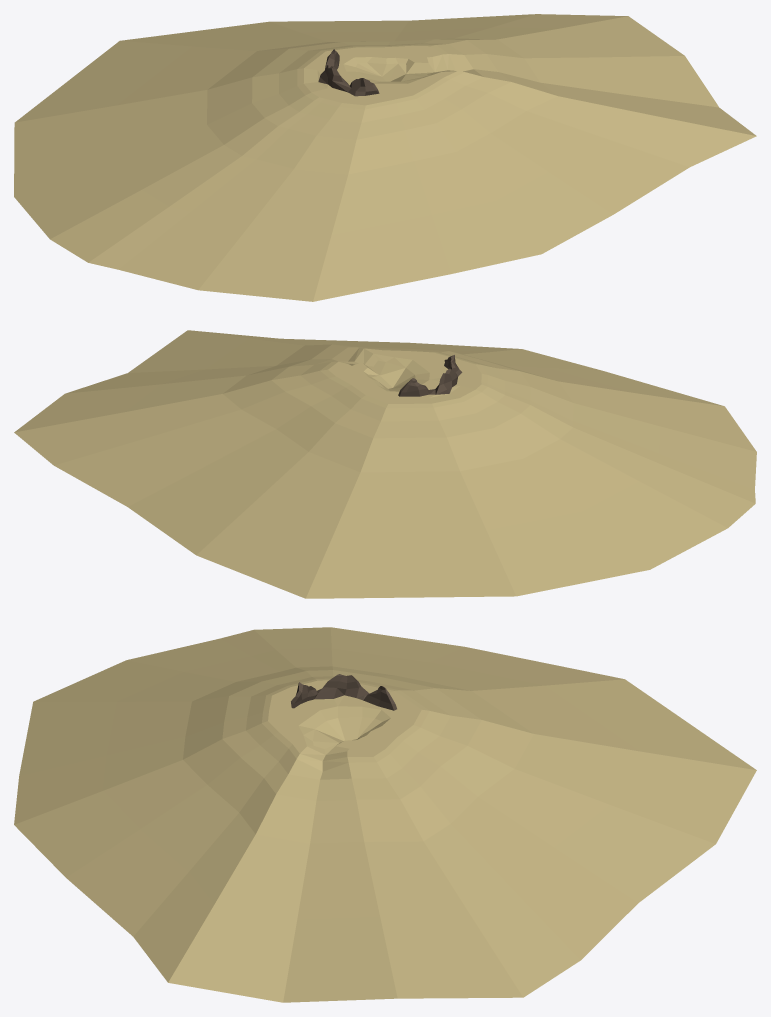
The model's file is island-03.fbx.
The picture shows the model from 3 angles, top to bottom: view 1: azimuth 30°, elevation 25°; view 2: azimuth 150°, elevation 25°; view 3: azimuth 270°, elevation 25°; orthographic projection. The views are drawn at different scales.
Parts seen in each view (by area): view 1: sand, mountains; view 2: sand, mountains; view 3: sand, mountains.
Part boxes in pixels (x1,y1,x2,y2): sand: (14,14,756,301); mountains: (318,49,379,96); sand: (14,330,756,598); mountains: (398,355,462,396); sand: (14,627,756,1002); mountains: (291,674,396,710).
Size of the model in its own units: 3241 by 514 by 2740.
